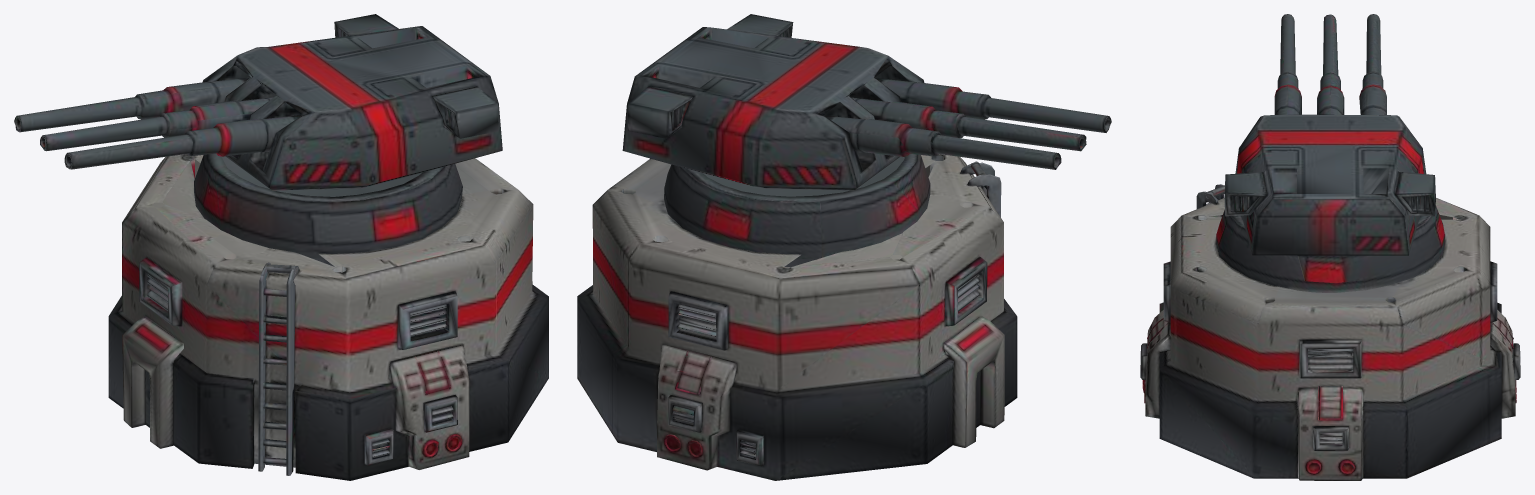
Rendered from turret.glb.
3 renders of one model, left to right at view 1: azimuth 30°, elevation 25°; view 2: azimuth 150°, elevation 25°; view 3: azimuth 270°, elevation 25°, orthographic. The views are drawn at different scales.
Bounding box in the file's own units: 0.9521 × 0.6162 × 0.771.
1 material, 1 textured.
